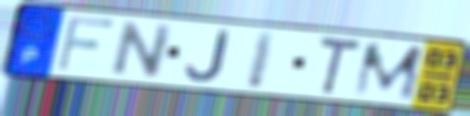F: (53, 14, 119, 74)
I: (243, 29, 279, 91)
J: (183, 29, 232, 84)
M: (351, 41, 428, 102)
N: (107, 19, 177, 79)
T: (315, 34, 364, 98)
